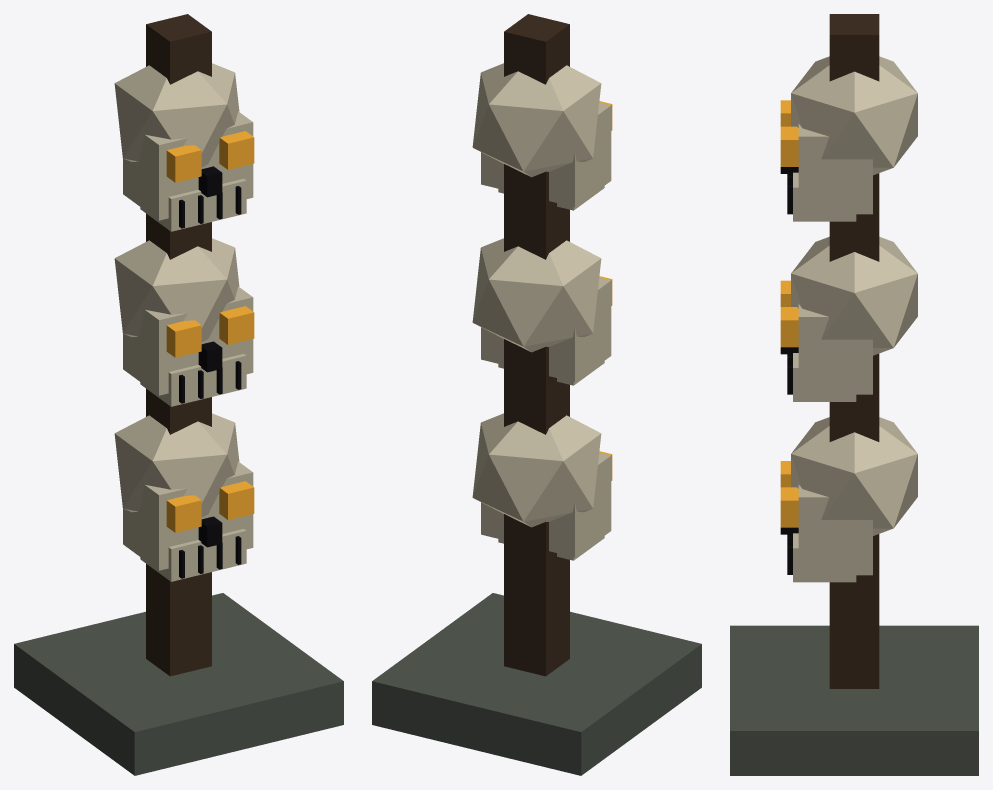
Rendered from skull_totem.obj.
The picture shows the model from 3 angles, left to right: view 1: azimuth 30°, elevation 25°; view 2: azimuth 150°, elevation 25°; view 3: azimuth 270°, elevation 25°; orthographic projection. The views are drawn at different scales.
Parts seen in each view (by area): view 1: skull_totem; view 2: skull_totem; view 3: skull_totem.
Boxes of the visible parts, x1=… form: skull_totem: x1=14, y1=14, x2=343, y2=775; skull_totem: x1=372, y1=14, x2=701, y2=775; skull_totem: x1=730, y1=14, x2=978, y2=775.
Bounding box in the file's own units: 0.5 × 1.55 × 0.5.
